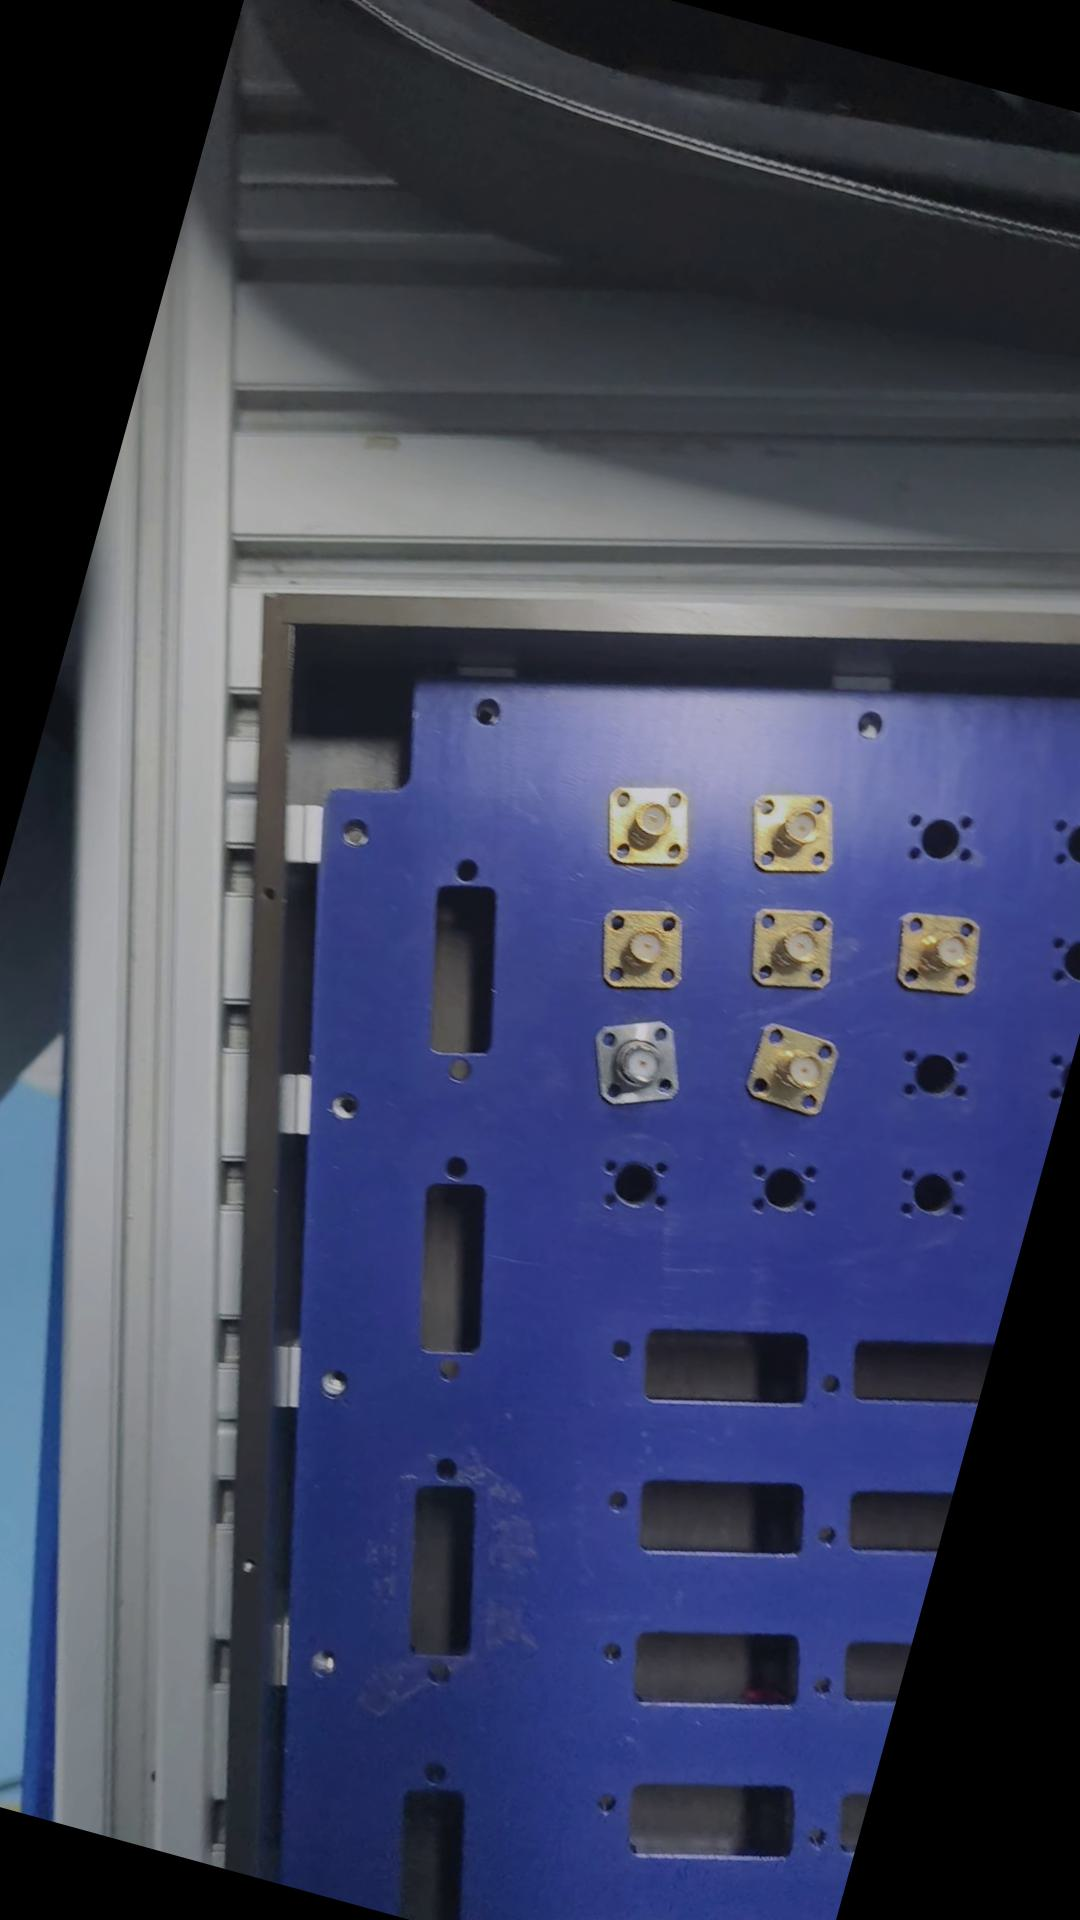SMA: (589, 770, 713, 885), (737, 1011, 852, 1129), (579, 1007, 694, 1122), (740, 893, 853, 1006), (585, 897, 700, 1006), (741, 779, 851, 889), (885, 901, 994, 1006)
